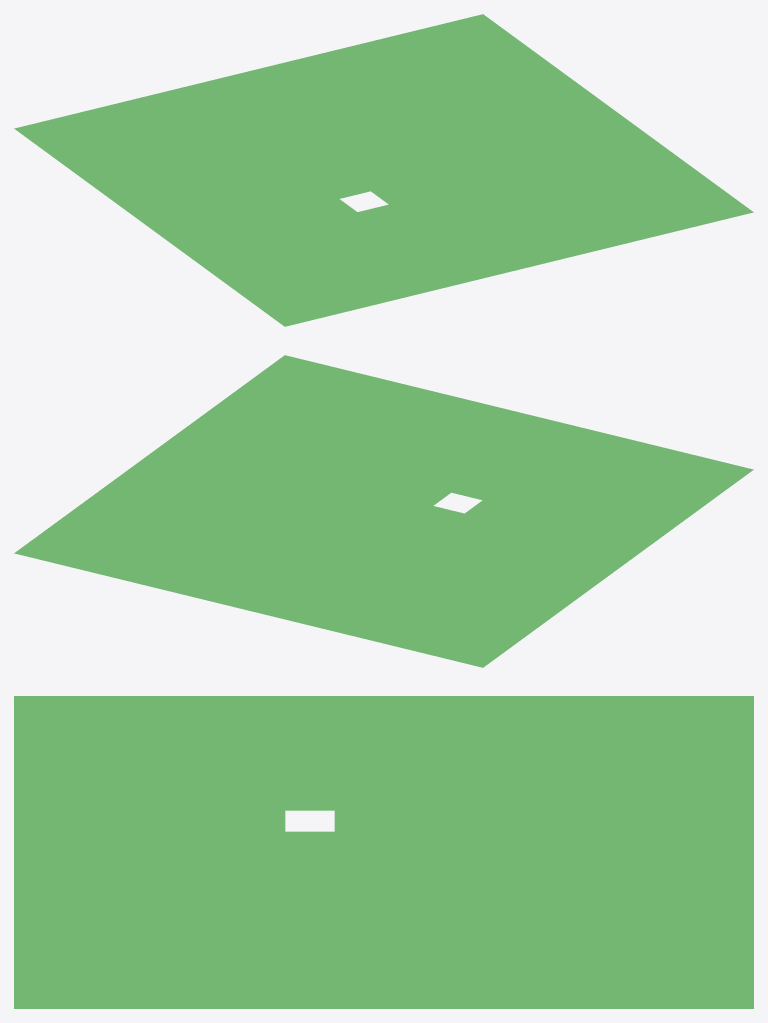
File: x_oo_ground_4_30x30_HR1_rmstrd.fbx
The picture shows the model from 3 angles, top to bottom: view 1: azimuth 30°, elevation 25°; view 2: azimuth 150°, elevation 25°; view 3: azimuth 270°, elevation 25°; orthographic projection. The views are drawn at different scales.
Parts seen in each view (by area): view 1: x_oo_ground_4_30x30_HR1_rmstrd1; view 2: x_oo_ground_4_30x30_HR1_rmstrd1; view 3: x_oo_ground_4_30x30_HR1_rmstrd1.
Boxes of the visible parts, x1,y1,x2,y2 form: x_oo_ground_4_30x30_HR1_rmstrd1: (14,14,753,326); x_oo_ground_4_30x30_HR1_rmstrd1: (14,355,753,667); x_oo_ground_4_30x30_HR1_rmstrd1: (14,696,753,1008).
Bounding box in the file's own units: 30 × 1.63e-12 × 30.
